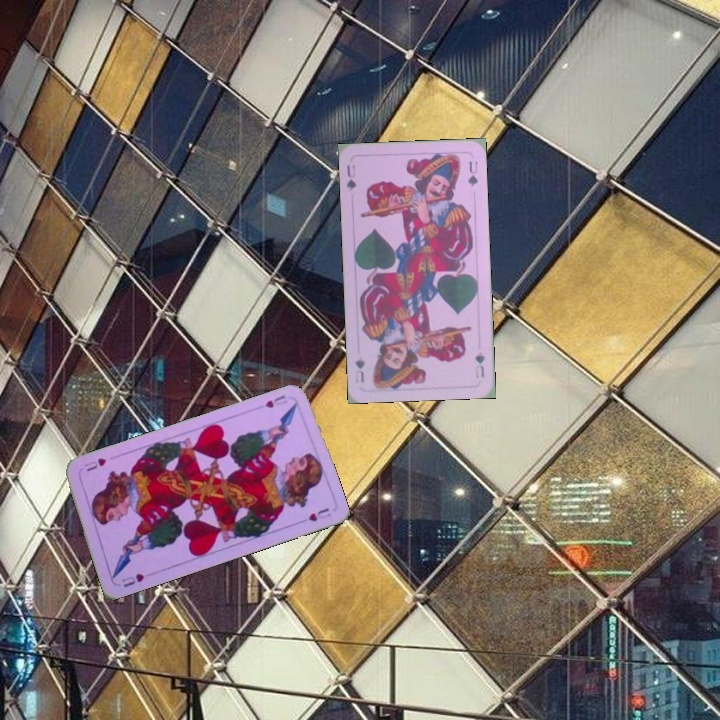GU: (342, 160, 359, 193), (471, 348, 487, 380)
HU: (118, 569, 147, 590), (261, 391, 290, 411)
